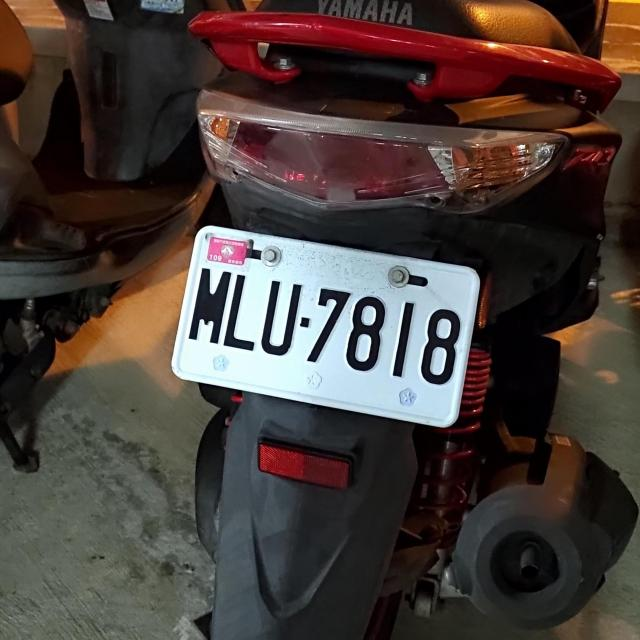W: (165, 218, 486, 426)
